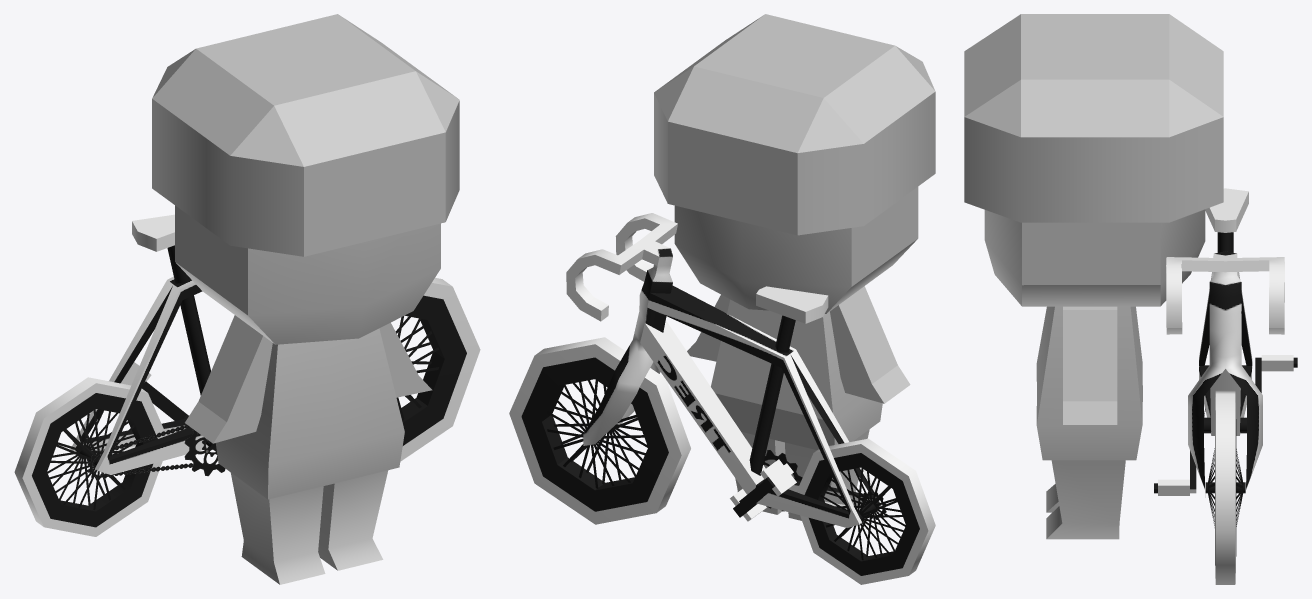
The model's file is man_1.FBX.
The picture shows the model from 3 angles, left to right: view 1: azimuth 30°, elevation 25°; view 2: azimuth 150°, elevation 25°; view 3: azimuth 270°, elevation 25°; orthographic projection. The views are drawn at different scales.
Visible parts, largest first — view 1: man_character_006, cycle_wheel, cycle_frame, cycle_pedal; view 2: man_character_006, cycle_wheel, cycle_frame, cycle_pedal; view 3: man_character_006, cycle_frame, cycle_wheel, cycle_pedal.
Part boxes in pixels (x1,y1,x2,y2): man_character_006: (152, 14, 459, 584); cycle_wheel: (14, 277, 480, 536); cycle_frame: (70, 214, 210, 474); cycle_pedal: (87, 362, 225, 480); man_character_006: (654, 14, 935, 520); cycle_wheel: (509, 337, 935, 584); cycle_frame: (566, 213, 882, 527); cycle_pedal: (730, 450, 886, 521); man_character_006: (964, 14, 1223, 539); cycle_frame: (1166, 188, 1284, 497); cycle_wheel: (1204, 365, 1246, 584); cycle_pedal: (1154, 355, 1297, 495).
Size of the model in its own units: 368 by 379 by 245.
